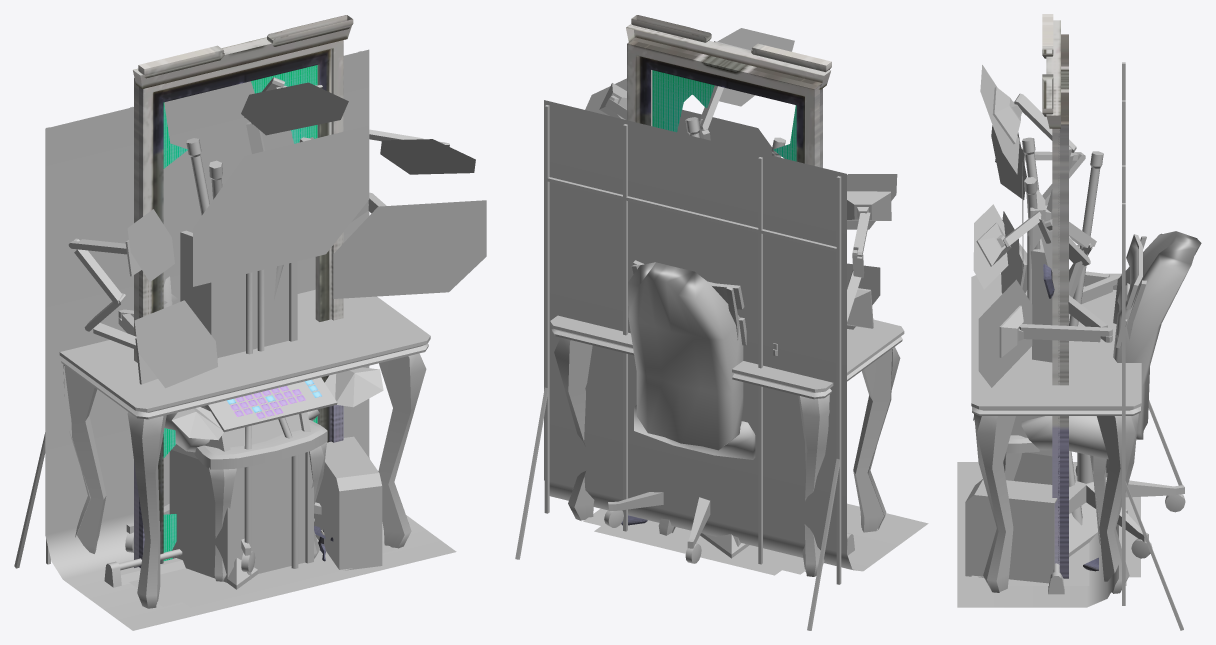
File: Level1_Props1.fbx
3 views of the same model, side by side, from view 1: azimuth 30°, elevation 25°; view 2: azimuth 150°, elevation 25°; view 3: azimuth 270°, elevation 25° (orthographic). The views are drawn at different scales.
Parts seen in each view (by area): view 1: FatGamingStation, Greenscreen, Table_Basic, WallDecoModule, DoorFrame, Chair_Basic, Decal_Follow, DoorPlate, NeonTube_Standing, EpicGamerChair, NeonTube_Wall; view 2: Greenscreen, EpicGamerChair, Table_Basic, DoorFrame, FatGamingStation, Decal_Follow, DoorPlate, Deccal_Phibians, Chair_Basic, NeonTube_Standing; view 3: FatGamingStation, Table_Basic, EpicGamerChair, DoorFrame, Greenscreen, NeonTube_Standing, Chair_Basic, WallDecoModule, Decal_Follow, Deccal_Phibians, NeonTube_Wall.
Part boxes in pixels (x1=…): FatGamingStation: x1=68, y1=77, x2=486, y2=570; Greenscreen: x1=14, y1=49, x2=456, y2=630; Table_Basic: x1=59, y1=289, x2=430, y2=608; WallDecoModule: x1=169, y1=230, x2=313, y2=582; DoorFrame: x1=133, y1=15, x2=353, y2=568; Chair_Basic: x1=163, y1=294, x2=327, y2=581; Decal_Follow: x1=160, y1=541, x2=383, y2=607; DoorPlate: x1=163, y1=65, x2=333, y2=561; NeonTube_Standing: x1=186, y1=137, x2=310, y2=589; EpicGamerChair: x1=125, y1=276, x2=321, y2=572; NeonTube_Wall: x1=104, y1=518, x2=315, y2=587; Greenscreen: x1=515, y1=100, x2=928, y2=630; EpicGamerChair: x1=604, y1=262, x2=755, y2=563; Table_Basic: x1=550, y1=315, x2=904, y2=576; DoorFrame: x1=621, y1=15, x2=831, y2=525; FatGamingStation: x1=585, y1=28, x2=897, y2=355; Decal_Follow: x1=594, y1=509, x2=860, y2=575; DoorPlate: x1=652, y1=70, x2=796, y2=161; Deccal_Phibians: x1=583, y1=508, x2=861, y2=574; Chair_Basic: x1=632, y1=260, x2=746, y2=546; NeonTube_Standing: x1=685, y1=117, x2=785, y2=558; FatGamingStation: x1=965, y1=65, x2=1119, y2=583; Table_Basic: x1=971, y1=273, x2=1141, y2=593; EpicGamerChair: x1=1021, y1=231, x2=1201, y2=558; DoorFrame: x1=1042, y1=14, x2=1098, y2=578; Greenscreen: x1=957, y1=62, x2=1183, y2=630; NeonTube_Standing: x1=1022, y1=137, x2=1127, y2=556; Chair_Basic: x1=1003, y1=234, x2=1146, y2=545; WallDecoModule: x1=1011, y1=231, x2=1052, y2=484; Decal_Follow: x1=971, y1=490, x2=1140, y2=577; Deccal_Phibians: x1=986, y1=497, x2=1126, y2=585; NeonTube_Wall: x1=1048, y1=563, x2=1064, y2=594.
Size of the model in its own units: 138 by 196 by 86.76.
